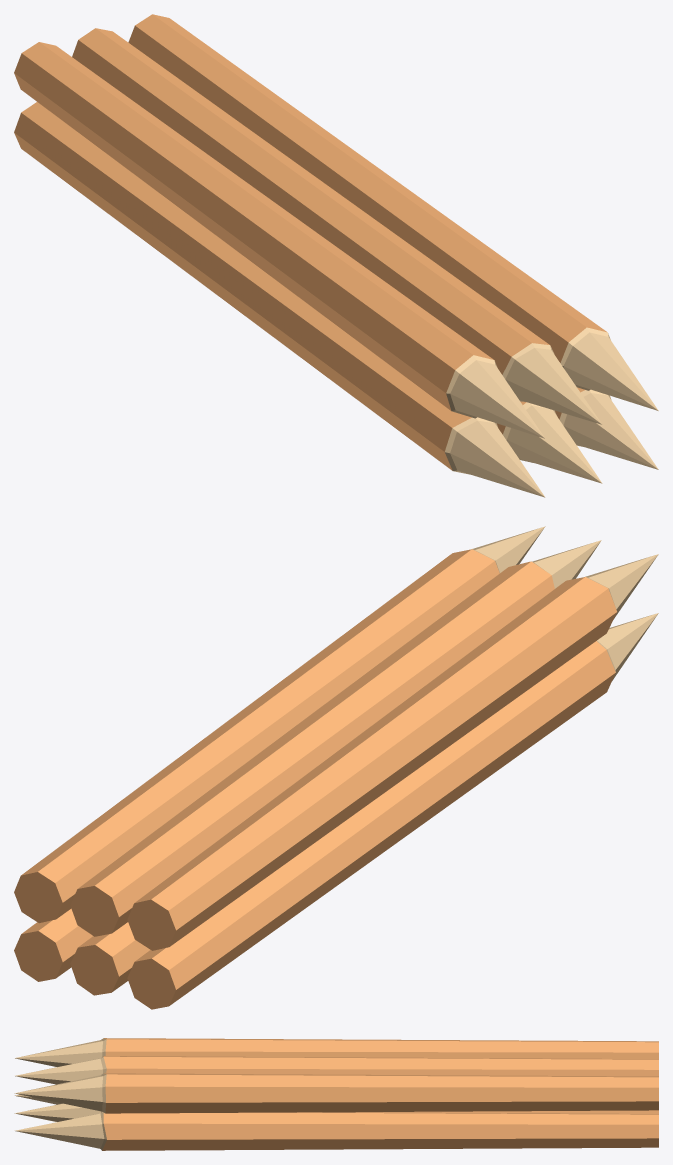
The model's file is ballista.arrow.6x.fbx.
The picture shows the model from 3 angles, top to bottom: view 1: azimuth 30°, elevation 25°; view 2: azimuth 150°, elevation 25°; view 3: azimuth 270°, elevation 25°; orthographic projection. The views are drawn at different scales.
Parts seen in each view (by area): view 1: ballista.arrow.6x; view 2: ballista.arrow.6x; view 3: ballista.arrow.6x.
Part boxes in pixels (box(x1,y1,x2,y2)): ballista.arrow.6x: box(14, 14, 658, 497); ballista.arrow.6x: box(14, 526, 658, 1009); ballista.arrow.6x: box(14, 1038, 658, 1150).
Size of the model in its own units: 0.5074 by 0.3383 by 2.6.
